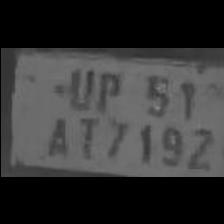1: (132, 118, 154, 164)
2: (183, 121, 214, 171)
5: (140, 69, 172, 119)
7: (100, 114, 128, 160)
9: (156, 119, 184, 166)
A: (40, 110, 70, 158)
P: (93, 60, 121, 113)
T: (66, 109, 100, 159)
U: (64, 63, 96, 113)
